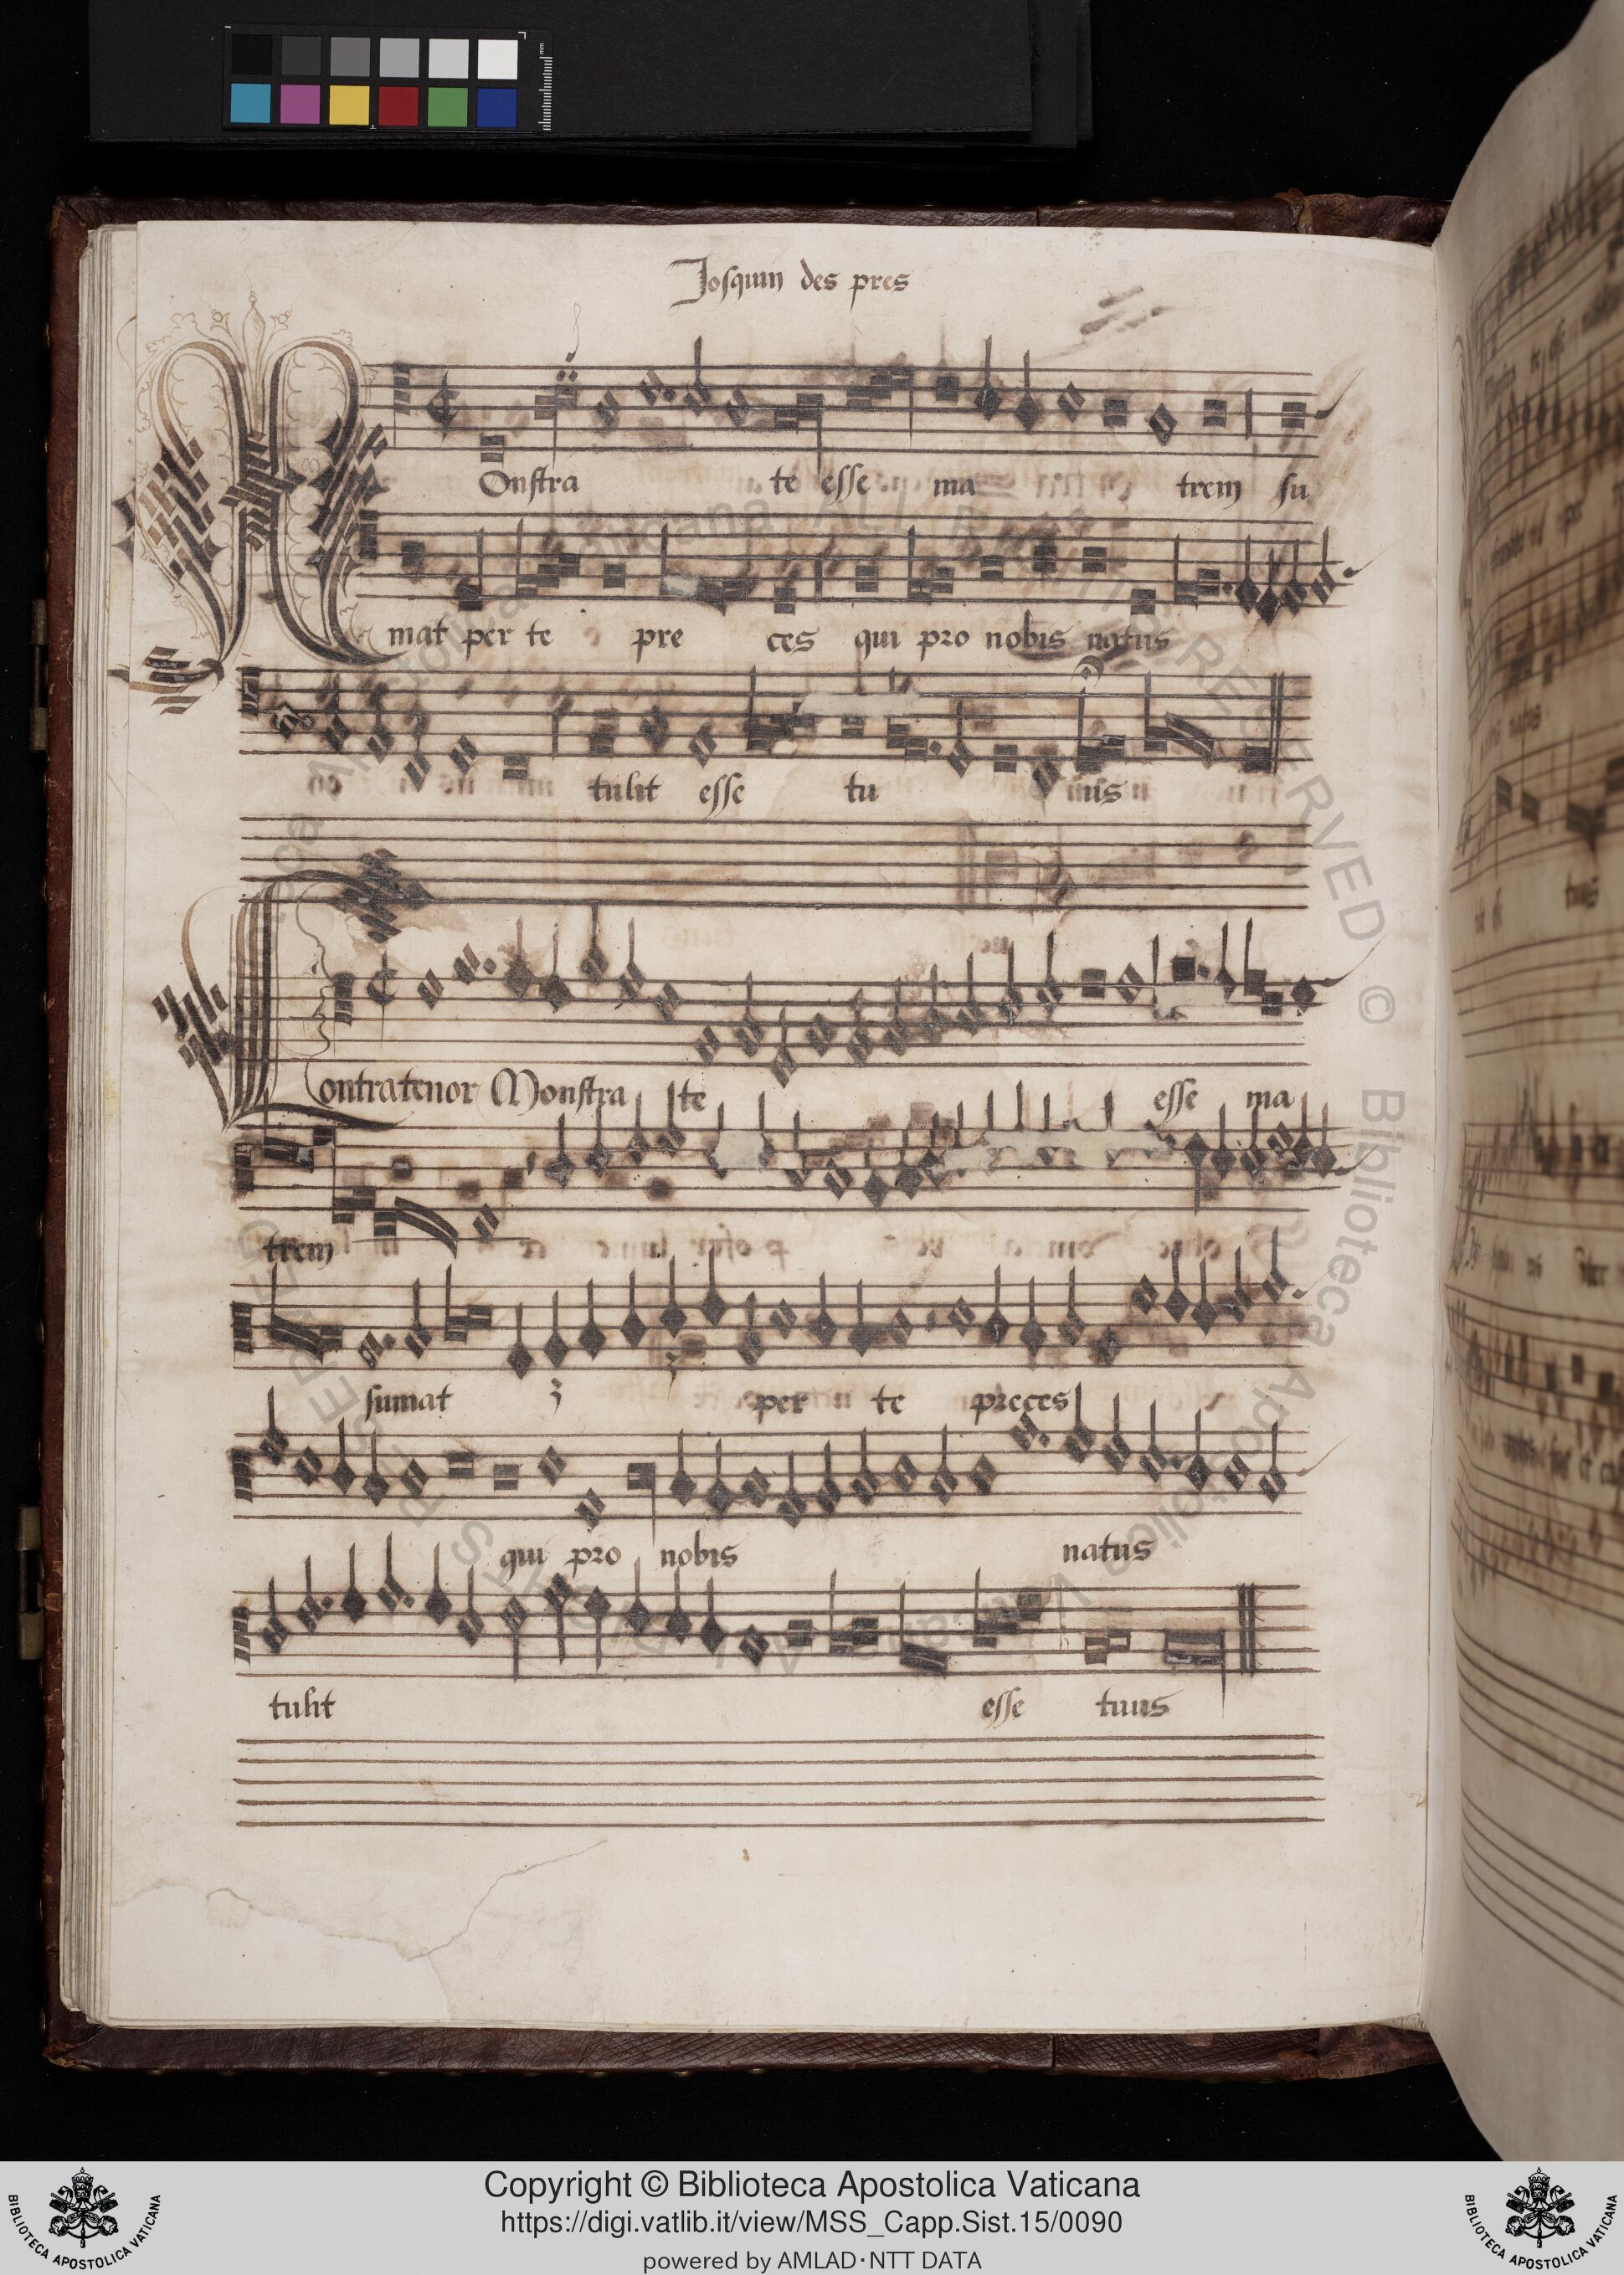Imincut: (362, 940, 410, 1031)
breve_3: (1069, 952, 1116, 1014)
c clef_5: (327, 961, 360, 1049)
colored semibreve_4: (1285, 959, 1325, 1026)
custos_3: (1313, 938, 1364, 998)
l1colored semibreve_3: (1241, 922, 1260, 1014)
l1semibreve_5: (1148, 945, 1178, 1021)
l2colored semibreve_2: (1174, 945, 1197, 993)
l2colored semibreve_5: (1258, 979, 1285, 1022)
minim_11: (763, 982, 801, 1098)
minim_2: (571, 903, 612, 996)
minim_3: (615, 910, 650, 1008)
minim_4: (1028, 926, 1070, 1040)
minim_5: (991, 929, 1025, 1029)
minim_6: (949, 936, 988, 1049)
minim_7: (917, 950, 951, 1061)
minim_8: (731, 950, 766, 1068)
minim_9: (842, 975, 879, 1082), (881, 963, 917, 1068)
point: (468, 940, 501, 986), (1188, 947, 1216, 991)
semibreve_2: (445, 926, 482, 996)
semibreve_3: (1111, 949, 1149, 1017)
semibreve_4: (411, 952, 446, 1022)
semibreve_5: (650, 963, 689, 1033)
semibreve_8: (798, 993, 845, 1072)
semibreve_9: (689, 1008, 733, 1075)
semiminim_3: (501, 908, 540, 1015), (1213, 915, 1239, 1014)
semiminim_4: (536, 915, 573, 1026)
